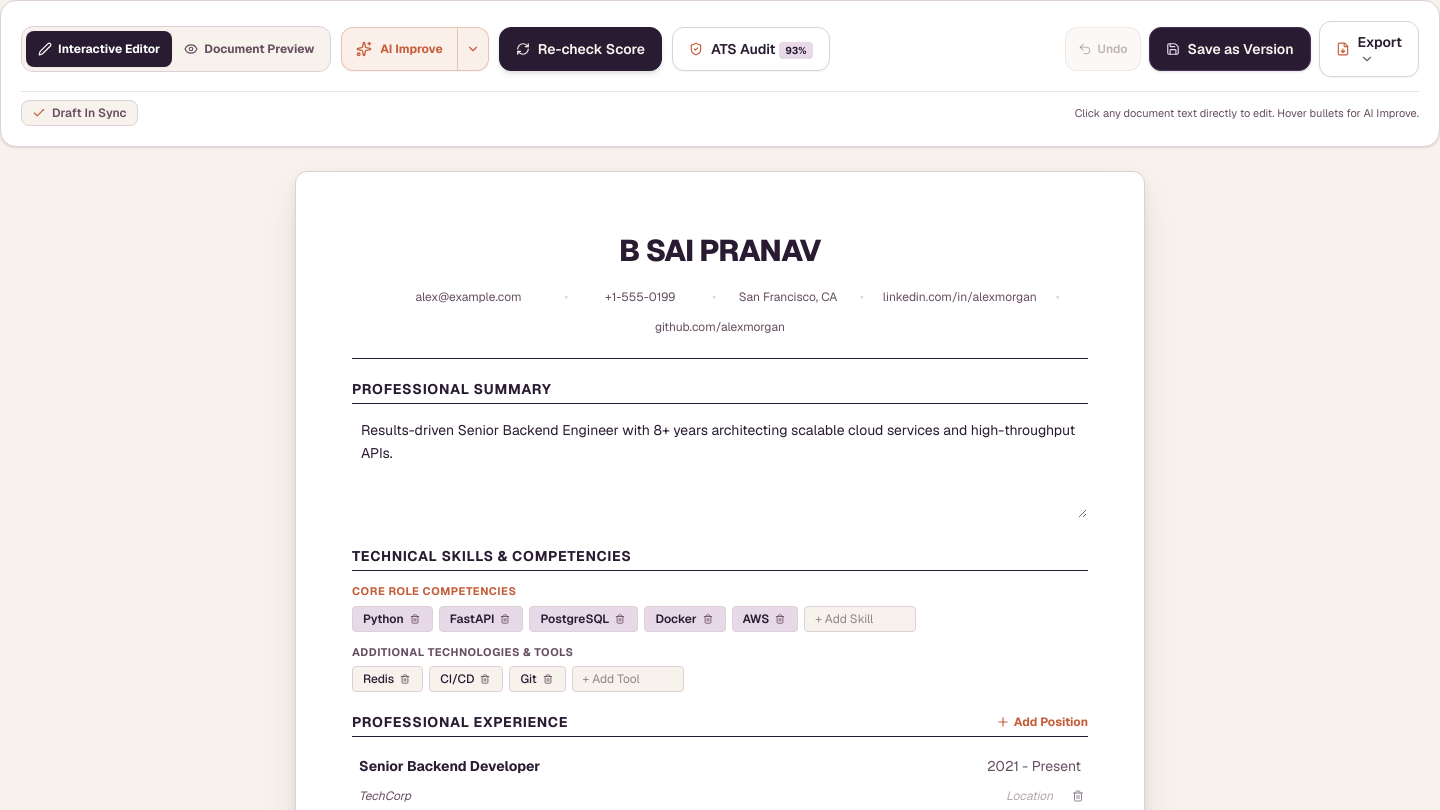
Test case: Phase 6.5: InteractiveResumeEditor Candidate Name & Hybrid AI Improve UX › displays candidate name correctly and normalizes on blur
Simulate accidental space injection: B SAI PRANA V
Replace the text in the 1st field with placeholder "Candidate Full Name" with "B SAI PRANA V" at (720, 251), box x1=352 y1=228 x2=1088 y2=274
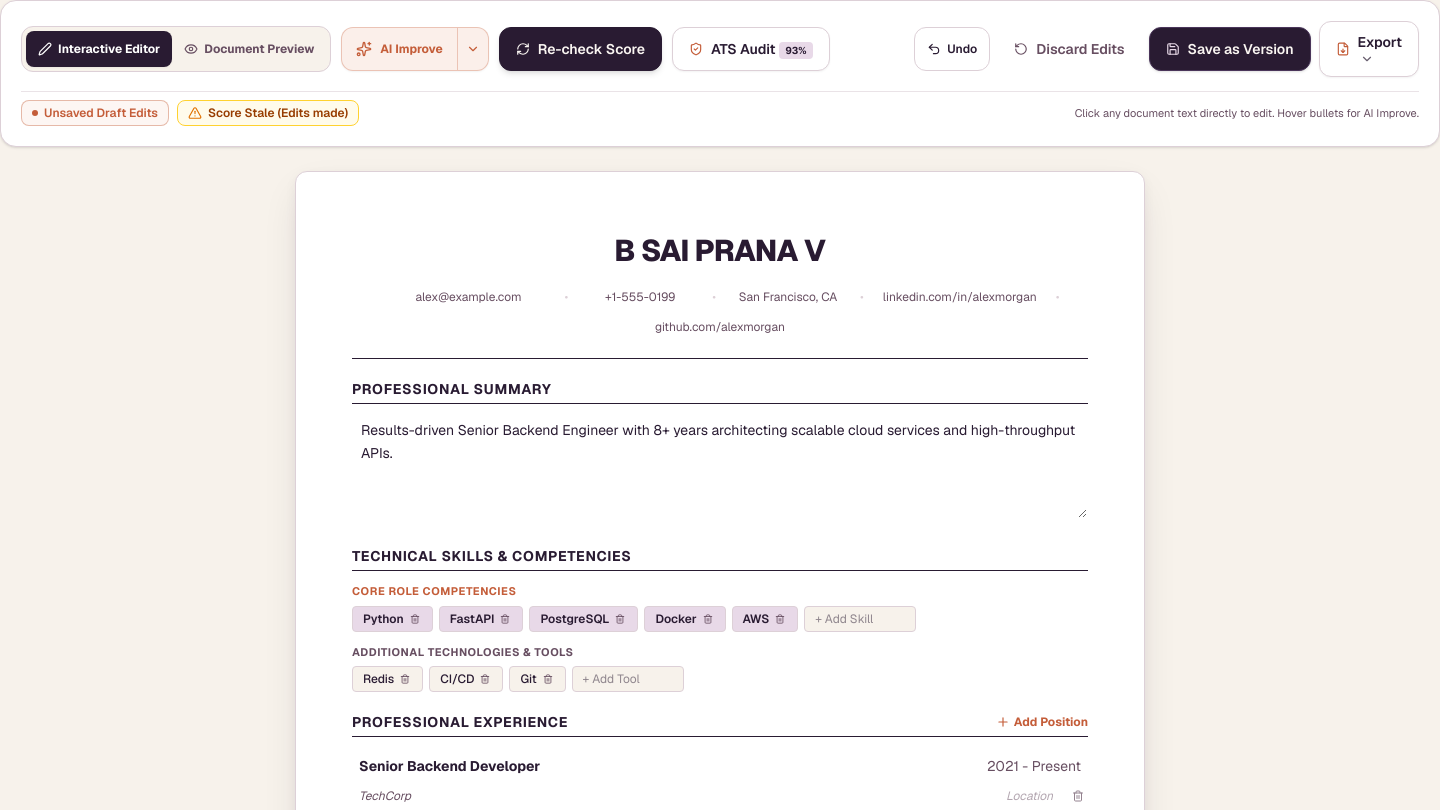
Leave the 1st field with placeholder "Candidate Full Name", box x1=352 y1=228 x2=1088 y2=274
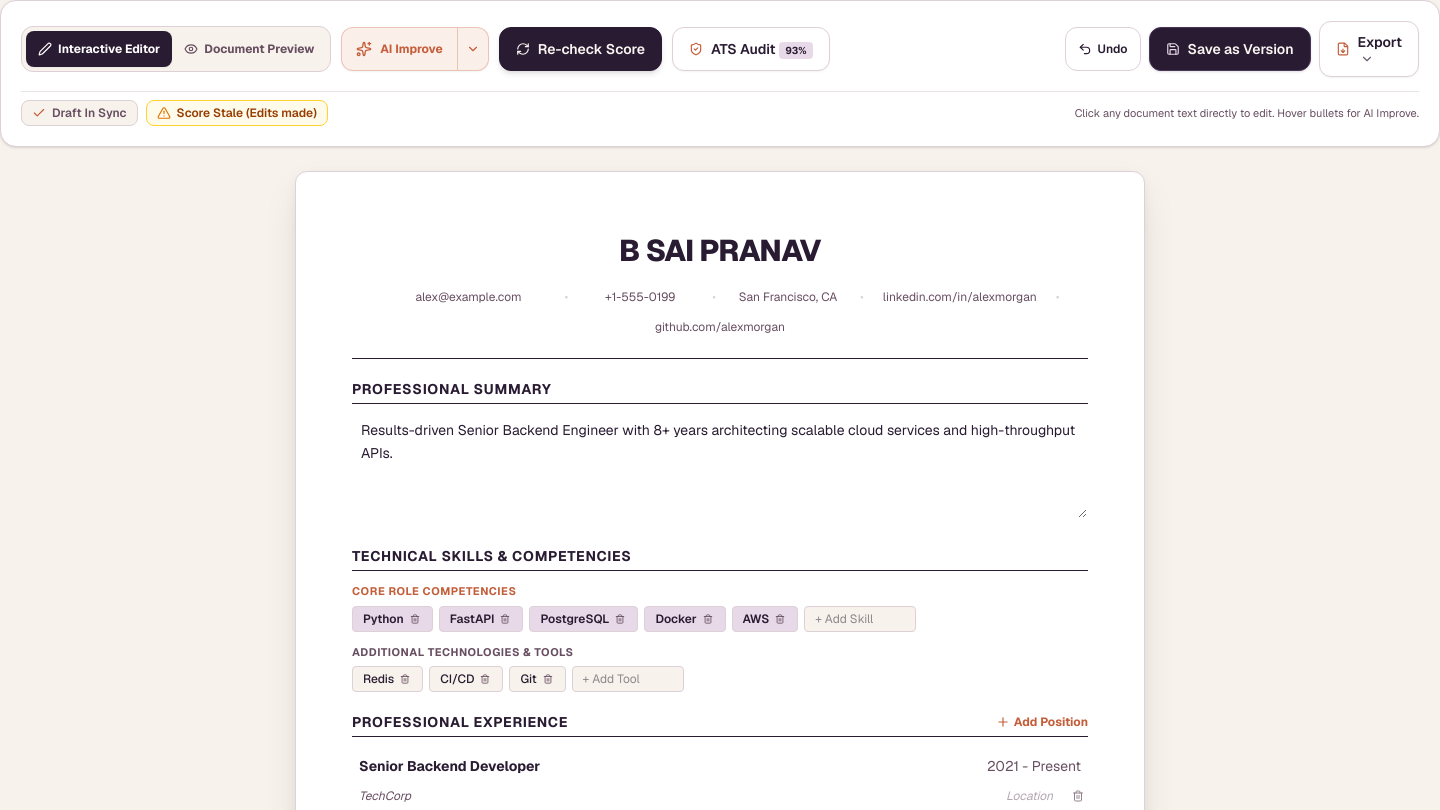
Expected: the 1st field with placeholder "Candidate Full Name" holds "B SAI PRANAV", x1=352 y1=228 x2=1088 y2=274
